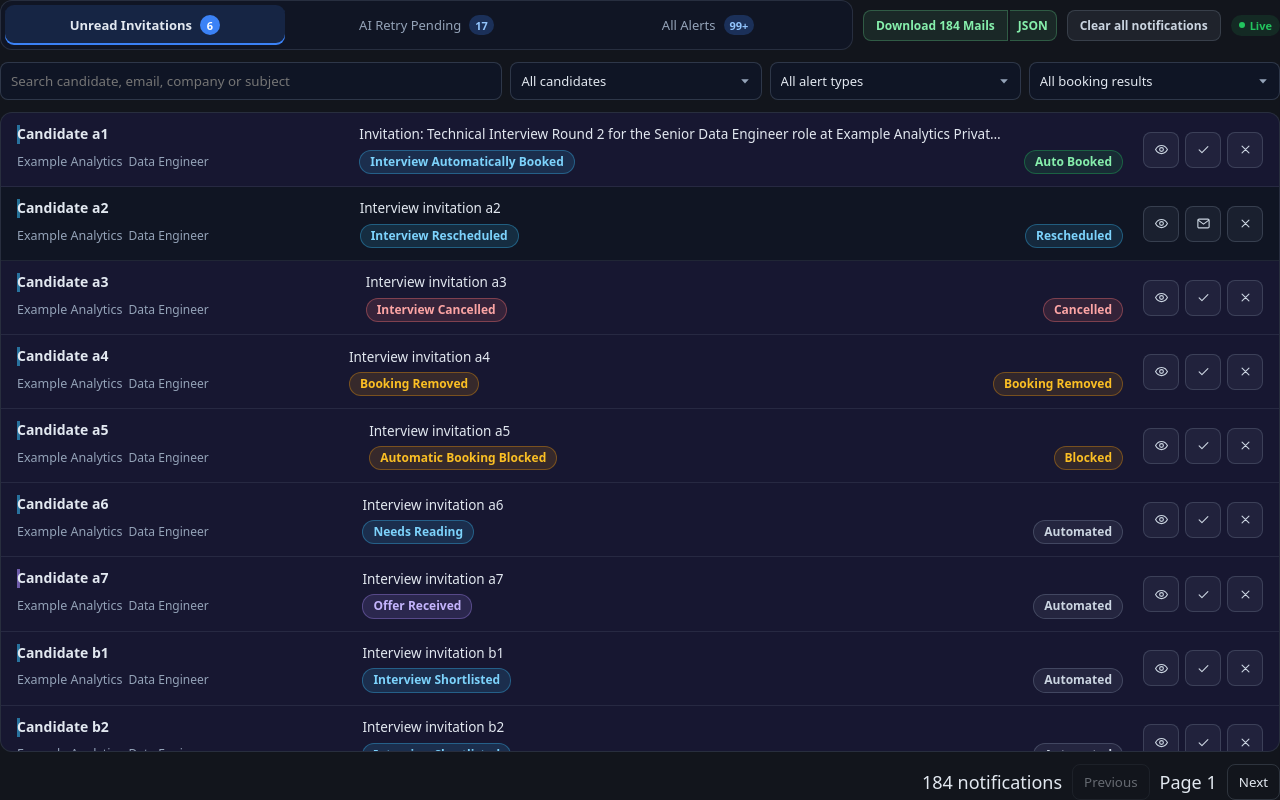
it: the alerts table › opens the alert from its Open action without the row opening it a second time
Click the button named "Open alert" in the row of "Candidate a7". click: (1161, 594)
box: [1143,576,1179,612]
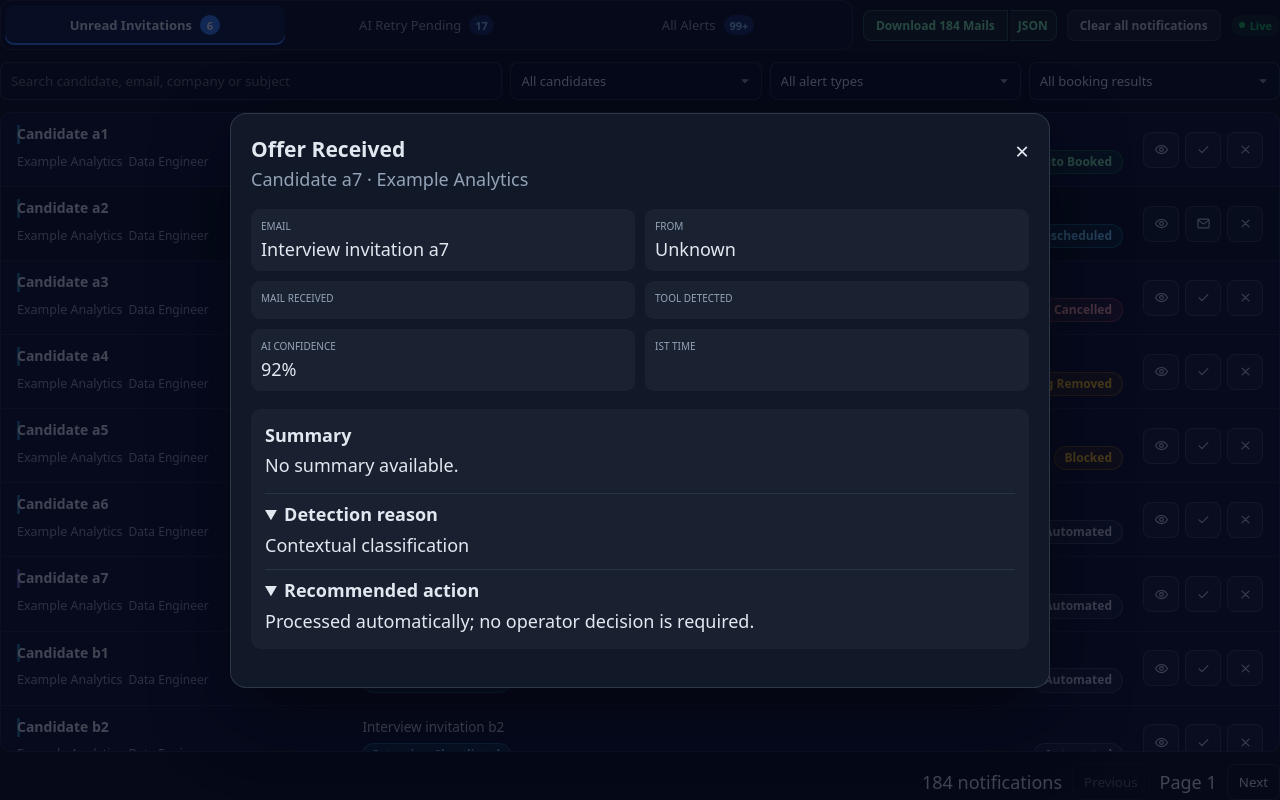
expect the heading "Offer Received" is shown: met, box [251,134,405,162]
